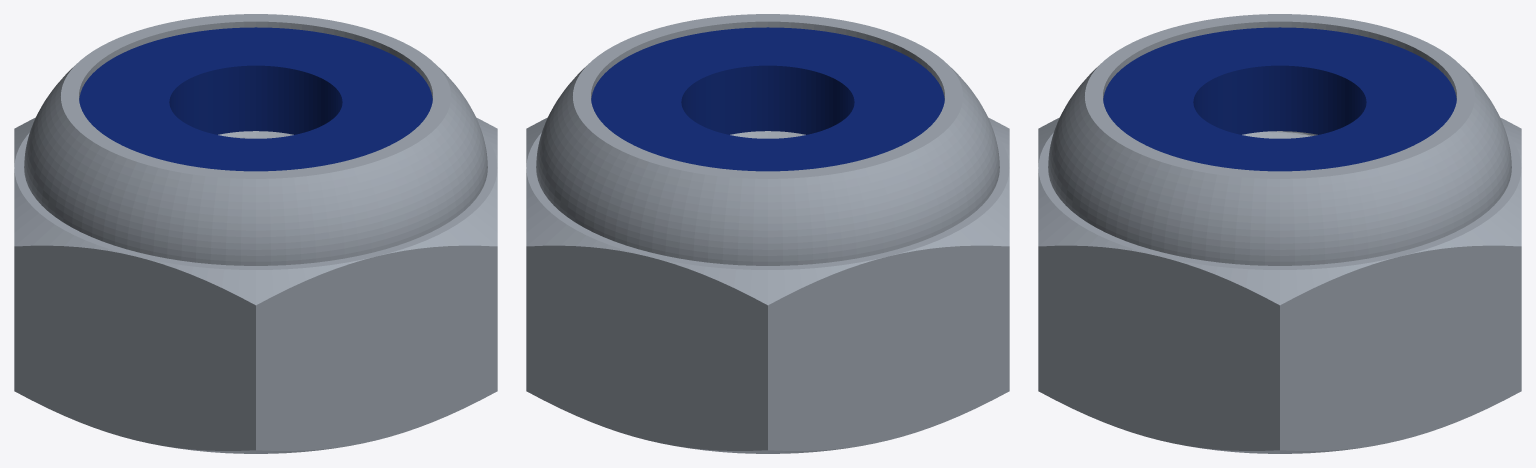
Rendered from model_full.glb.
The picture shows the model from 3 angles, left to right: view 1: azimuth 30°, elevation 25°; view 2: azimuth 150°, elevation 25°; view 3: azimuth 270°, elevation 25°; orthographic projection.
Parts seen in each view (by area): view 1: steel, nylon_insert; view 2: steel, nylon_insert; view 3: steel, nylon_insert.
Part boxes in pixels (bbox=[...]): steel: bbox=[14, 14, 497, 453]; nylon_insert: bbox=[79, 27, 432, 171]; steel: bbox=[526, 14, 1009, 453]; nylon_insert: bbox=[591, 27, 944, 171]; steel: bbox=[1038, 14, 1521, 453]; nylon_insert: bbox=[1103, 27, 1456, 171].
Size of the model in its own units: 0.00346 by 0.00175 by 0.003.
